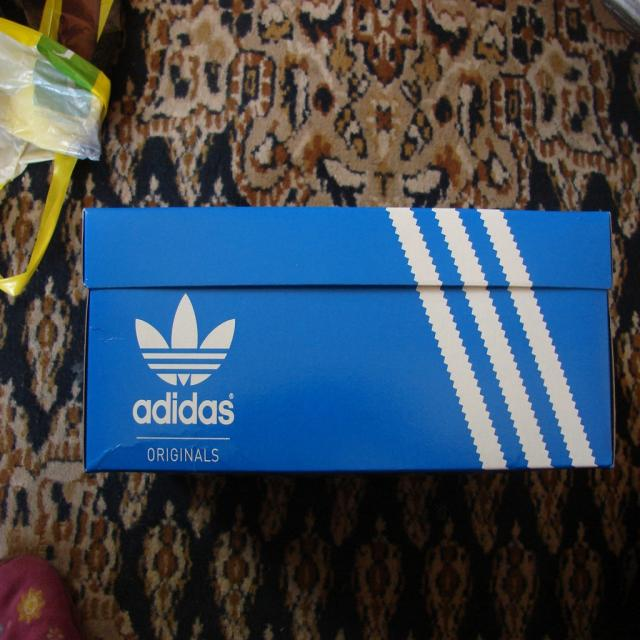adidas: (131, 291, 240, 429)
